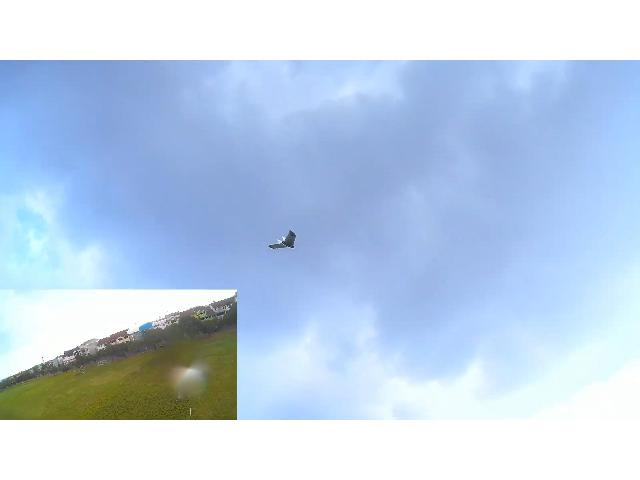Anti-Drone: (268, 230, 294, 248)
